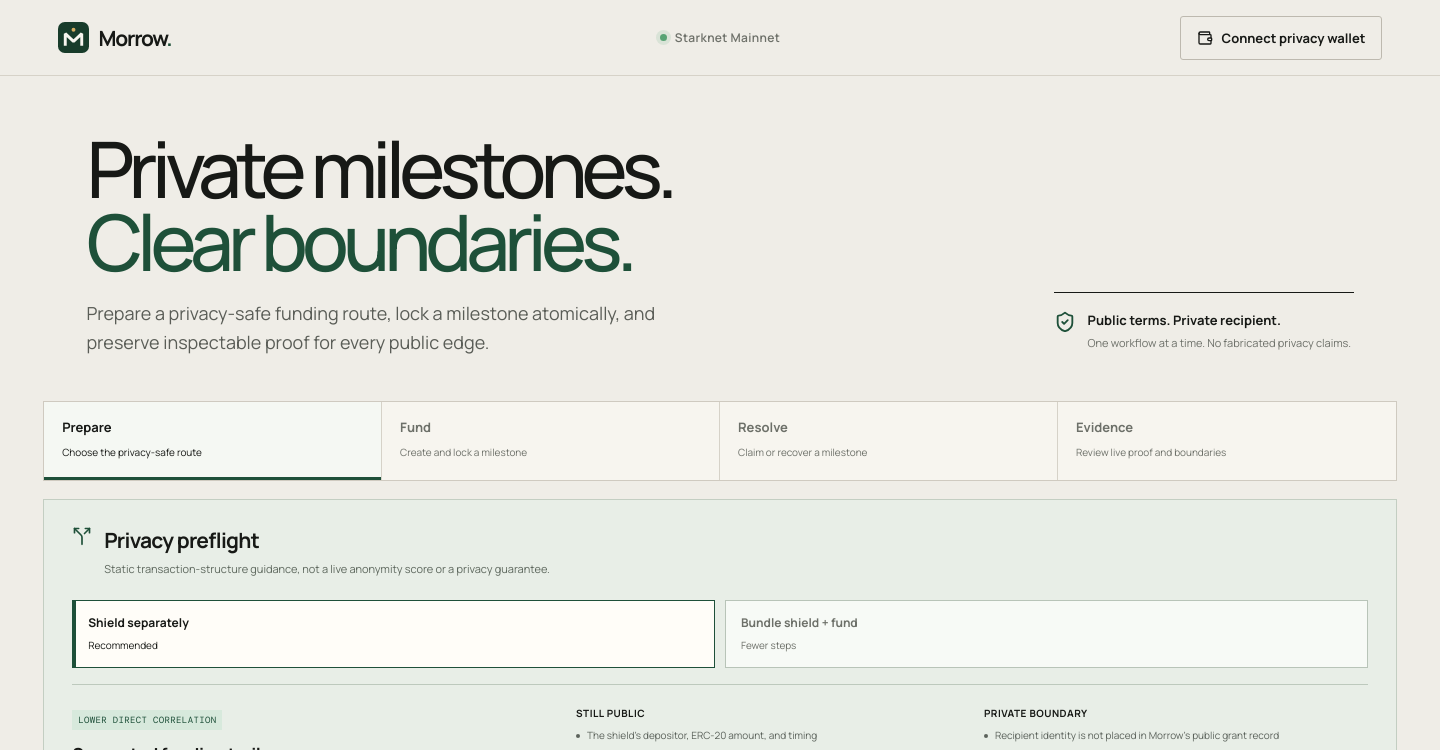
Test: funding secret acknowledgement › keeps the funding action disabled until both secrets are acknowledged
Step 1. Click the tab "Fund Create and lock a milestone" → (416, 427), box [382,402,720,480]
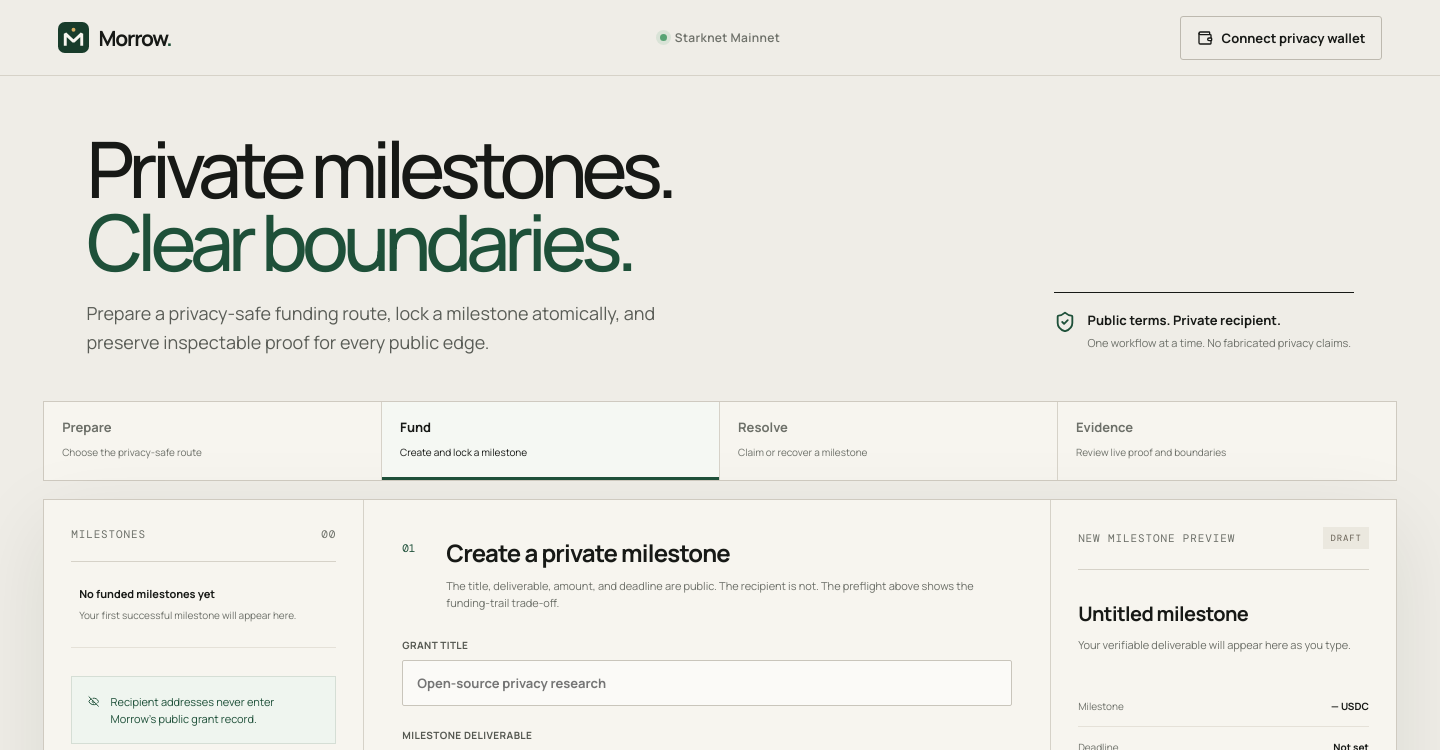
Step 2. Type "Gate verification" into the field labelled "Grant title" → (707, 683), box [402,660,1012,706]
(page scrolled)
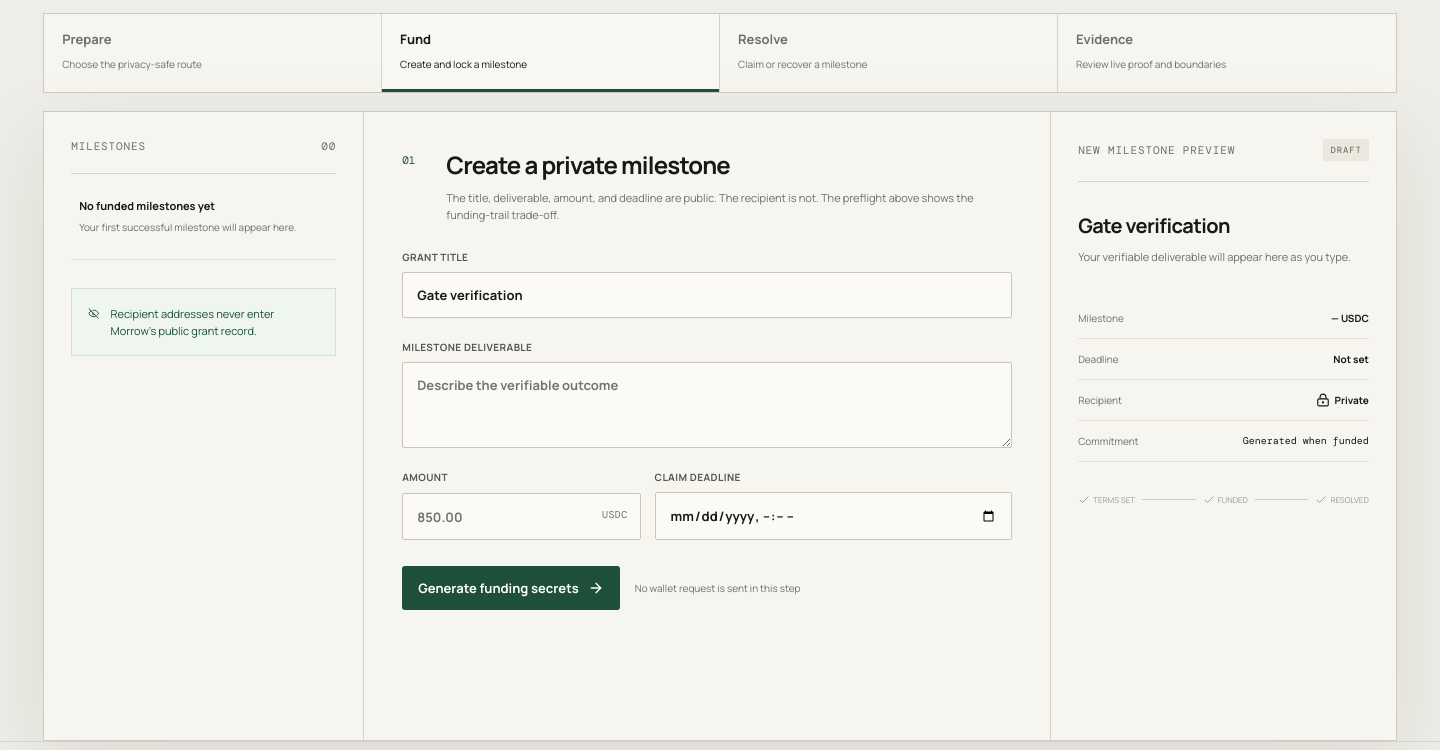
Step 3. Type "Verify the acknowledgement gate" into the text box labelled "Milestone deliverable" → (707, 405), box [402,362,1012,448]
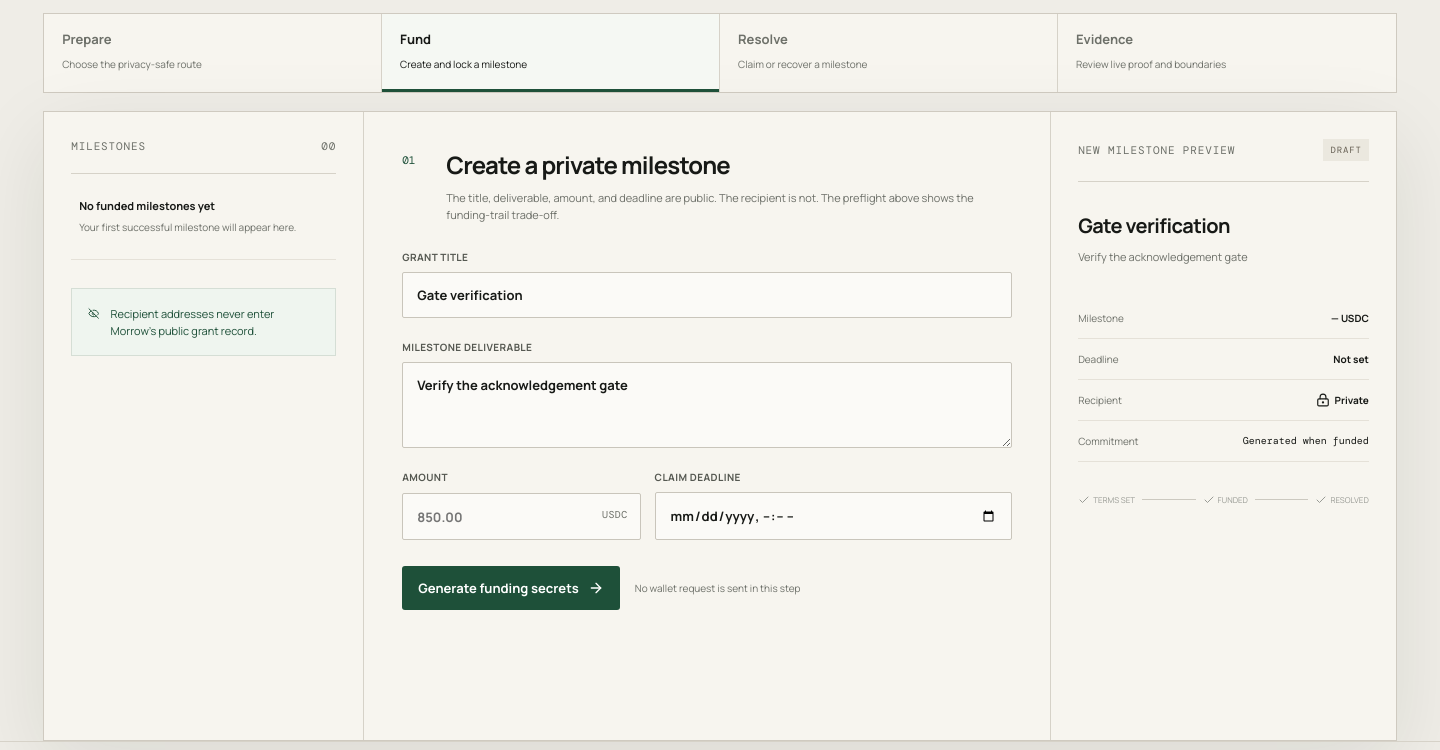
Step 4. Type "0.05" into the field labelled "Amount USDC" → (521, 517), box [402,493,641,540]
Step 5. Type "2099-08-22T12:00" into the field labelled "Claim deadline" → (833, 516), box [655,492,1012,540]
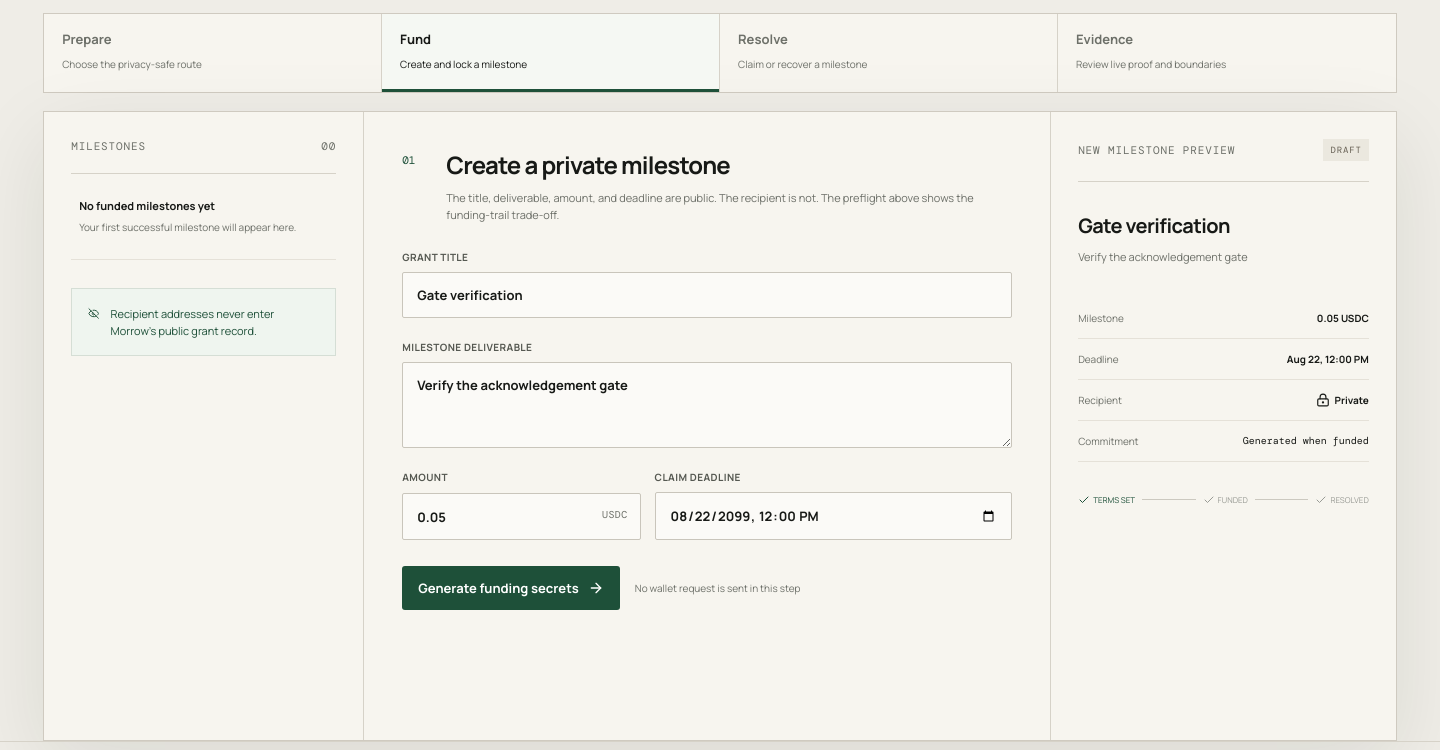
Step 6. Click the button "Generate funding secrets" → (511, 588), box [402,566,620,610]
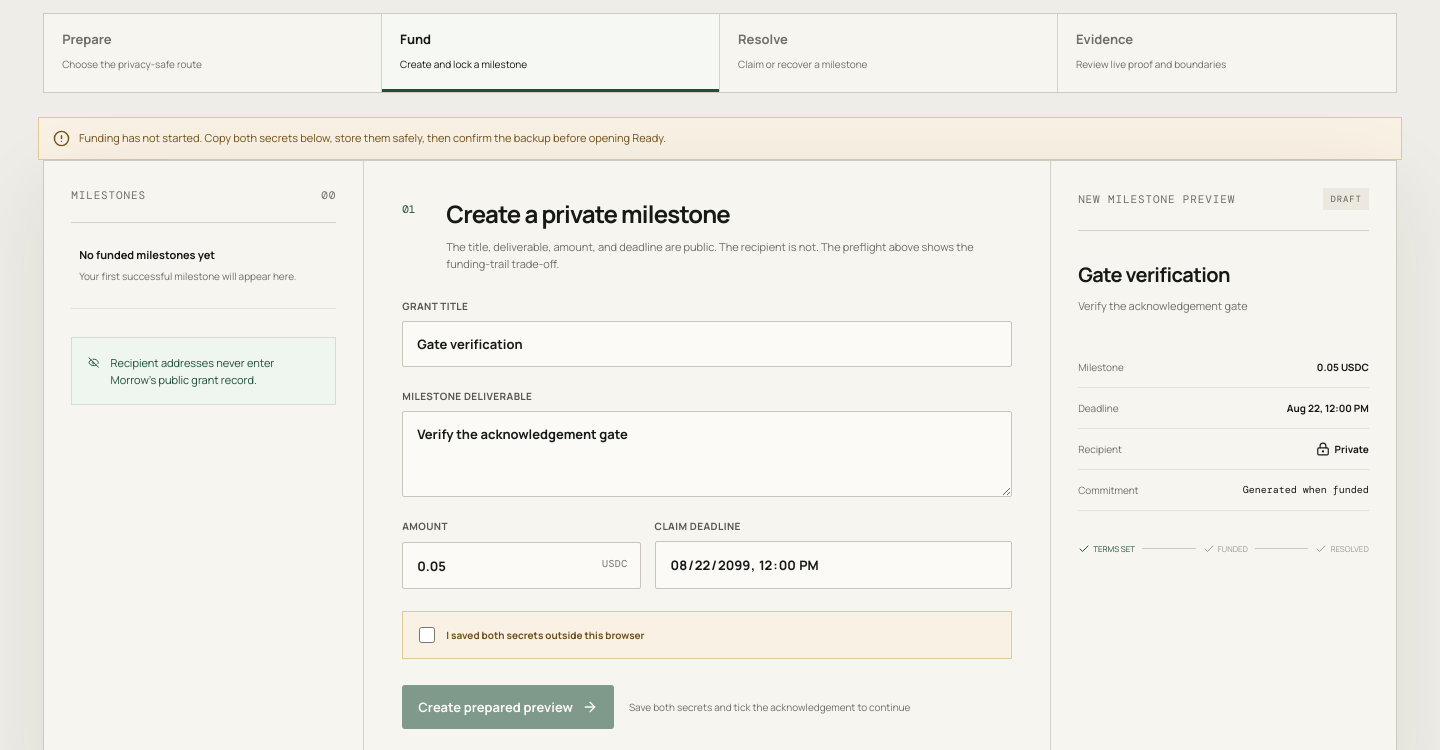
Expected: the button "Create prepared preview" is disabled, [402,685,614,729]
Step 7. Click the checkbox labelled "I saved both secrets outside this browser" → (427, 635), box [419,627,435,643]
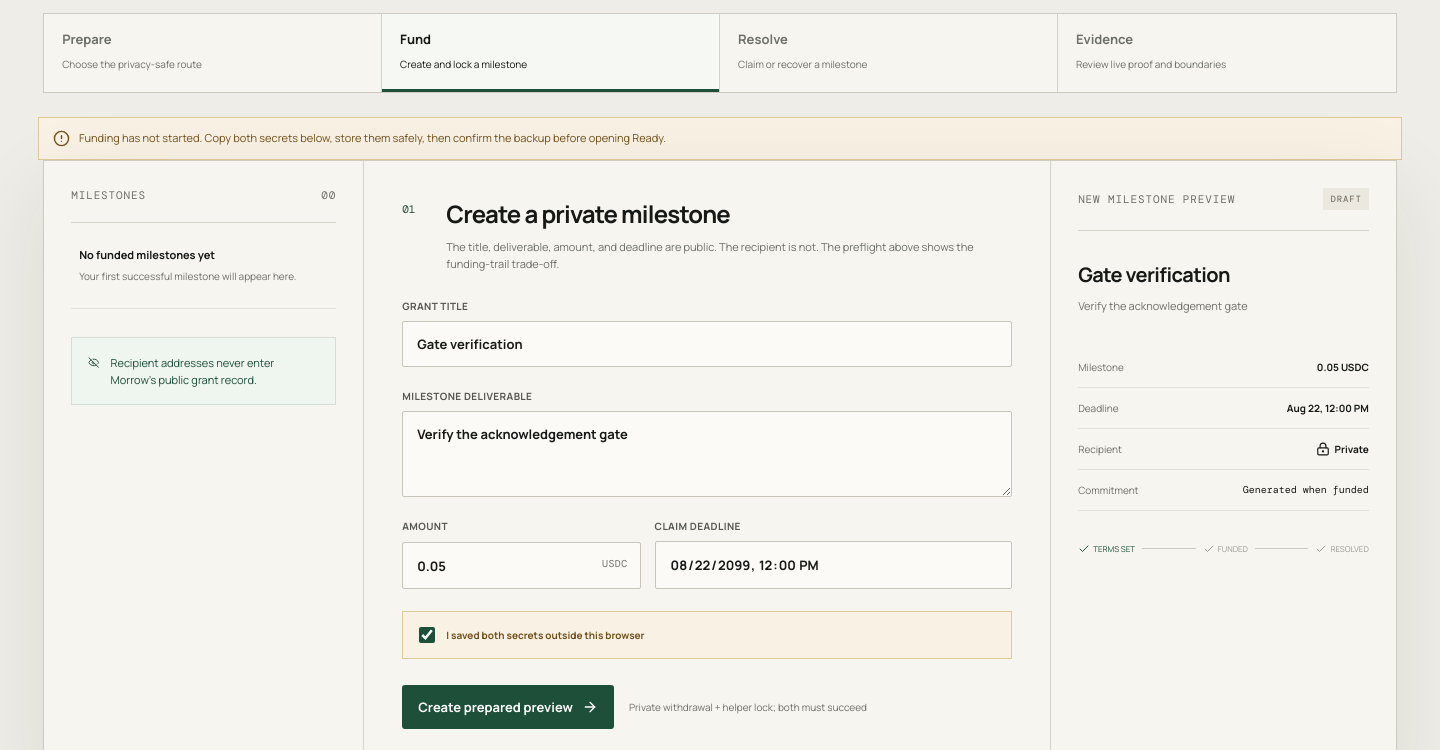
Expected: the button "Create prepared preview" is enabled, [402,685,614,729]
